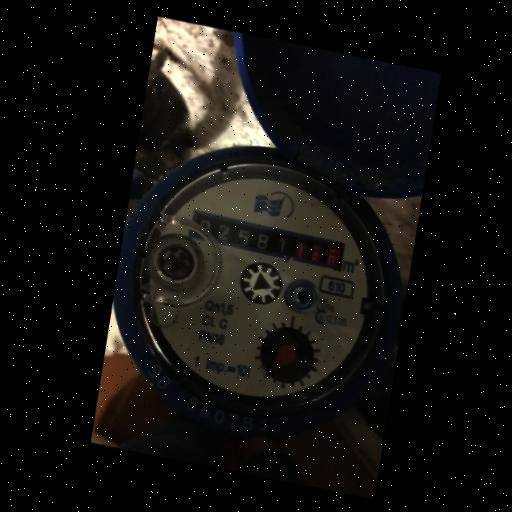0: (194, 213, 215, 234)
1: (291, 236, 310, 261), (273, 233, 291, 257)
2: (213, 219, 235, 243)
3: (306, 240, 325, 264)
5: (232, 224, 254, 249)
8: (252, 227, 273, 252)
9: (322, 240, 342, 269)
border_water_meter_number: (184, 208, 349, 274)
